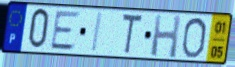0: (27, 6, 52, 53)
E: (48, 11, 82, 52)
H: (149, 14, 183, 60)
I: (90, 11, 105, 55)
O: (180, 16, 209, 60)
T: (120, 12, 144, 57)
